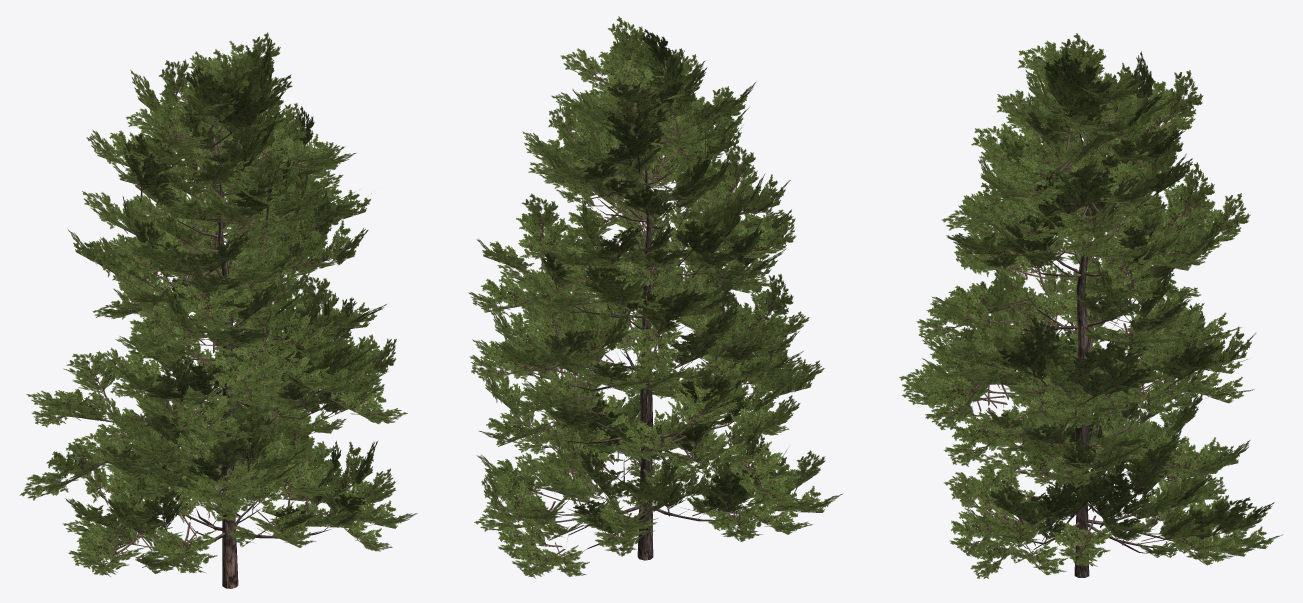
File: fir_1.glb
The picture shows the model from 3 angles, left to right: view 1: azimuth 30°, elevation 25°; view 2: azimuth 150°, elevation 25°; view 3: azimuth 270°, elevation 25°; orthographic projection. The views are drawn at different scales.
Visible parts, largest first — view 1: NobleFirTree; view 2: NobleFirTree; view 3: NobleFirTree.
Part boxes in pixels (<box>): NobleFirTree: <box>19,32,417,588</box>; NobleFirTree: <box>468,16,843,578</box>; NobleFirTree: <box>899,33,1283,578</box>.
Size of the model in its own units: 5.27 by 7.45 by 5.05.
2 materials, 2 textured.
